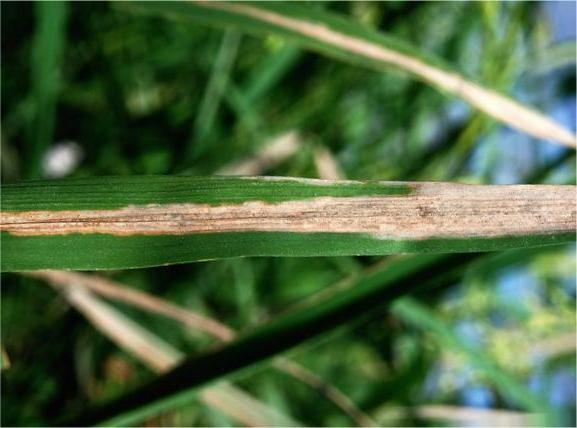BLB: (2, 177, 576, 241)
LEAF: (1, 176, 576, 271)
